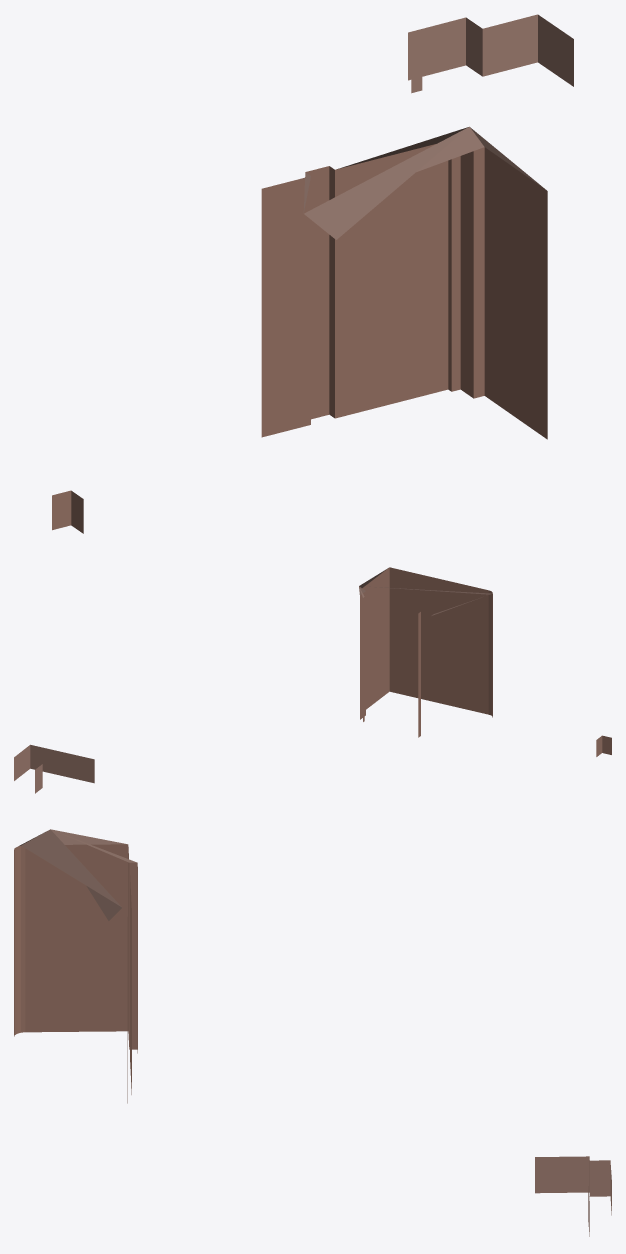
File: c_1635_17826_buildings_residential.glb
3 views of the same model, one above another, from view 1: azimuth 30°, elevation 25°; view 2: azimuth 150°, elevation 25°; view 3: azimuth 270°, elevation 25° (orthographic). The views are drawn at different scales.
Parts seen in each view (by area): view 1: geometry_0; view 2: geometry_0; view 3: geometry_0.
Boxes of the visible parts, left/top/right/bottom form: geometry_0: left=52, top=14, right=573, bottom=533; geometry_0: left=14, top=567, right=611, bottom=793; geometry_0: left=14, top=829, right=611, bottom=1236.
Bounding box in the file's own units: 201 × 60.51 × 165.
